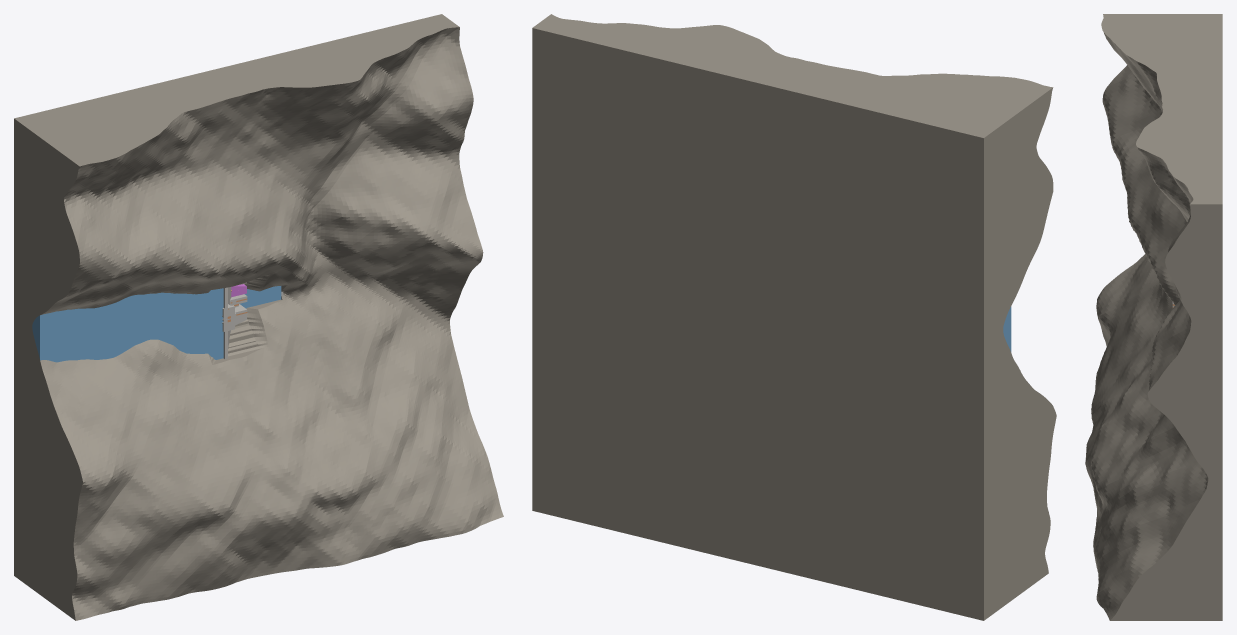
The picture shows the model from 3 angles, left to right: view 1: azimuth 30°, elevation 25°; view 2: azimuth 150°, elevation 25°; view 3: azimuth 270°, elevation 25°; orthographic projection. The views are drawn at different scales.
Parts seen in each view (by area): view 1: rock, reservoir, concrete; view 2: rock; view 3: rock.
Boxes of the visible parts, x1,y1,x2,y2 form: rock: [14, 14, 503, 620]; reservoir: [32, 288, 223, 362]; concrete: [222, 287, 283, 359]; rock: [532, 14, 1056, 620]; rock: [1085, 14, 1222, 620].
Bounding box in the file's own units: 1400 × 1430 × 428.
